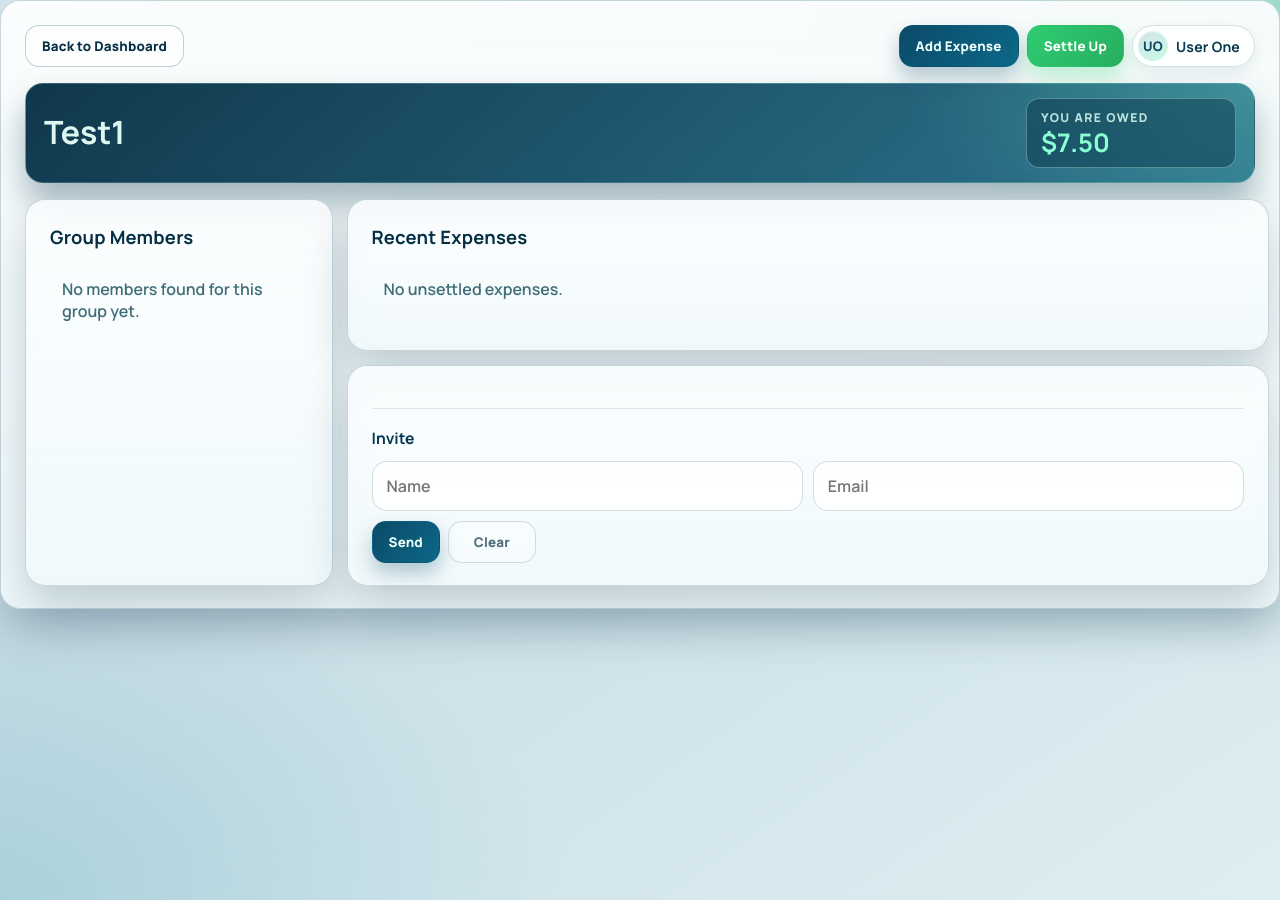
Test: GroupView › renders Leave Group button enabled for a non-owner member
What coordinates should you click on to do the following:
click the button with aria-label "Group actions for"
I would click on:
 (1194, 46)
Its box is x1=1132 y1=25 x2=1255 y2=67.
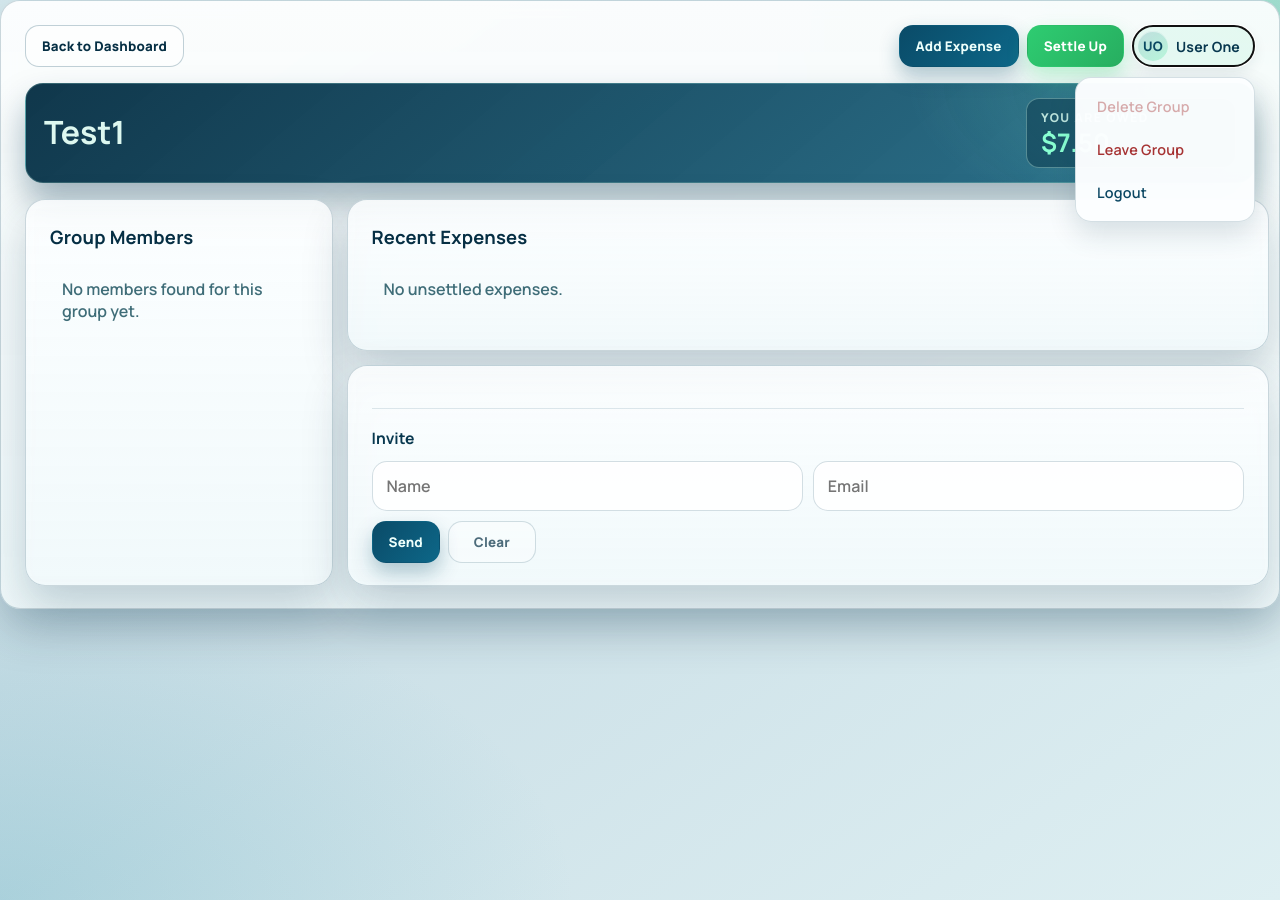
Now the menu item "Leave Group" is enabled, box x1=1084 y1=129 x2=1246 y2=170
